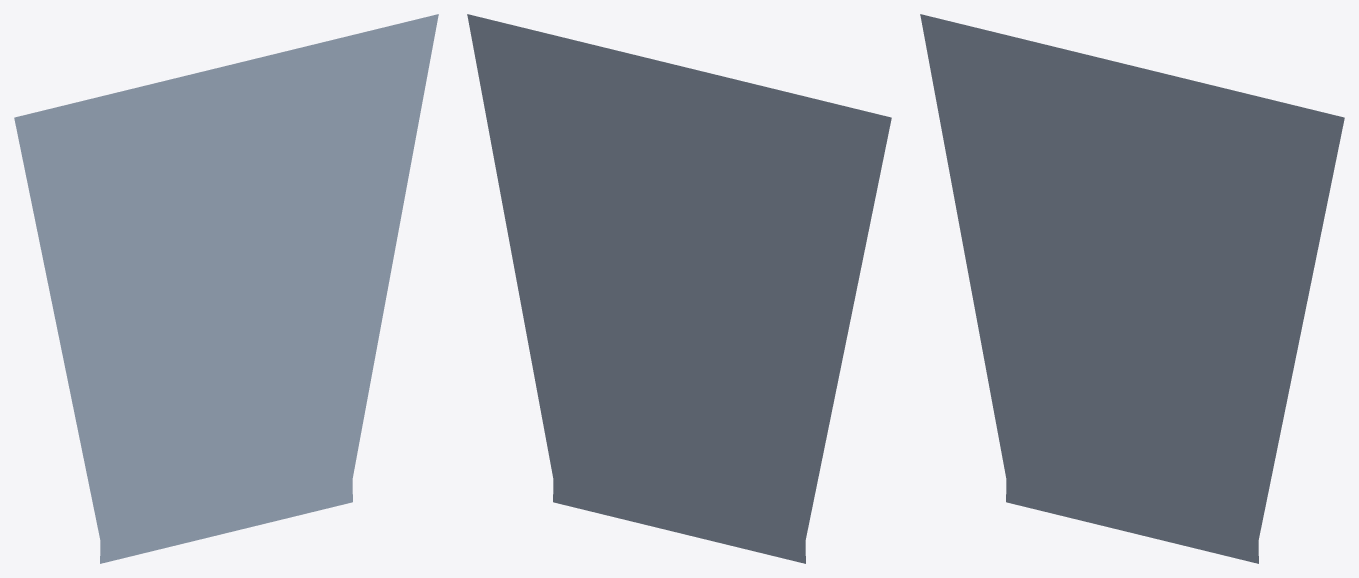
The model's file is shineplane.fbx.
The picture shows the model from 3 angles, left to right: view 1: azimuth 30°, elevation 25°; view 2: azimuth 150°, elevation 25°; view 3: azimuth 330°, elevation 25°; orthographic projection.
Visible parts, largest first — view 1: pPlane1; view 2: pPlane1; view 3: pPlane1.
Boxes of the visible parts, x1,y1,x2,y2 form: pPlane1: (14,14,438,563); pPlane1: (467,14,891,563); pPlane1: (920,14,1344,563).
Bounding box in the file's own units: 2.72 × 2.86 × 0.
